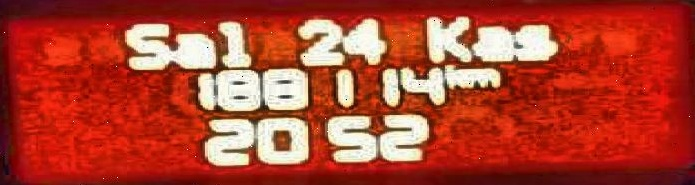0: (253, 115, 309, 165)
1: (331, 66, 355, 107), (194, 71, 216, 111), (378, 66, 398, 106)
2: (198, 116, 256, 166), (375, 112, 429, 161), (293, 16, 344, 65)
4: (340, 16, 386, 65), (400, 65, 442, 105)
5: (320, 113, 375, 162)
8: (260, 67, 309, 110), (215, 67, 260, 111)
X: (118, 21, 171, 70), (422, 13, 471, 62), (513, 22, 558, 61), (469, 23, 513, 61), (171, 31, 215, 68), (218, 18, 251, 67), (466, 64, 500, 87), (442, 62, 467, 88)
